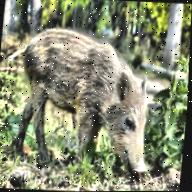boar: (0, 18, 168, 192)
